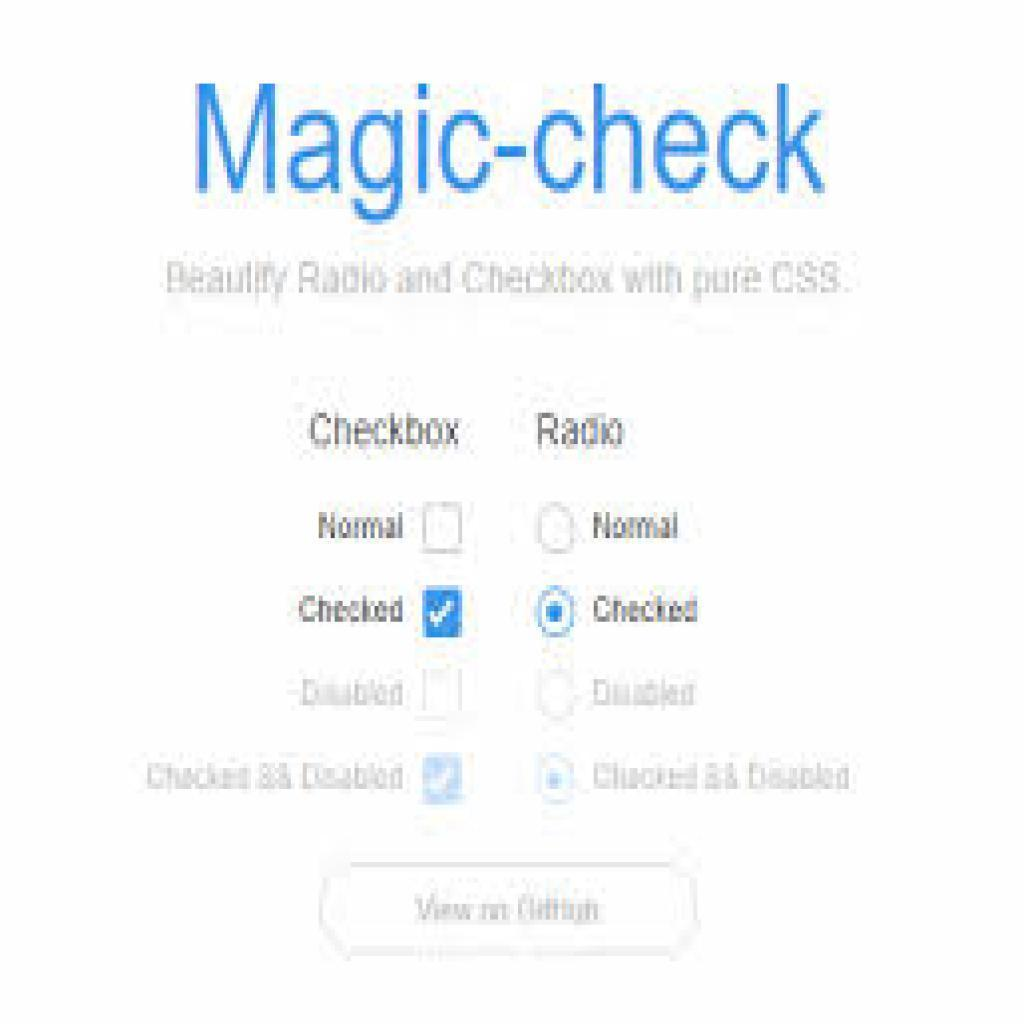button: (322, 867, 702, 956)
checkbox: (421, 589, 465, 641), (421, 752, 463, 804), (422, 666, 464, 714), (424, 502, 462, 555)
label: (591, 754, 855, 804), (142, 754, 408, 799), (301, 407, 474, 459), (591, 673, 706, 718), (531, 406, 636, 453), (295, 584, 406, 628), (593, 501, 686, 552), (296, 672, 405, 713), (317, 507, 408, 553), (596, 591, 704, 628)
radio: (538, 668, 580, 728), (535, 753, 574, 813), (537, 587, 581, 640), (535, 504, 577, 556)
